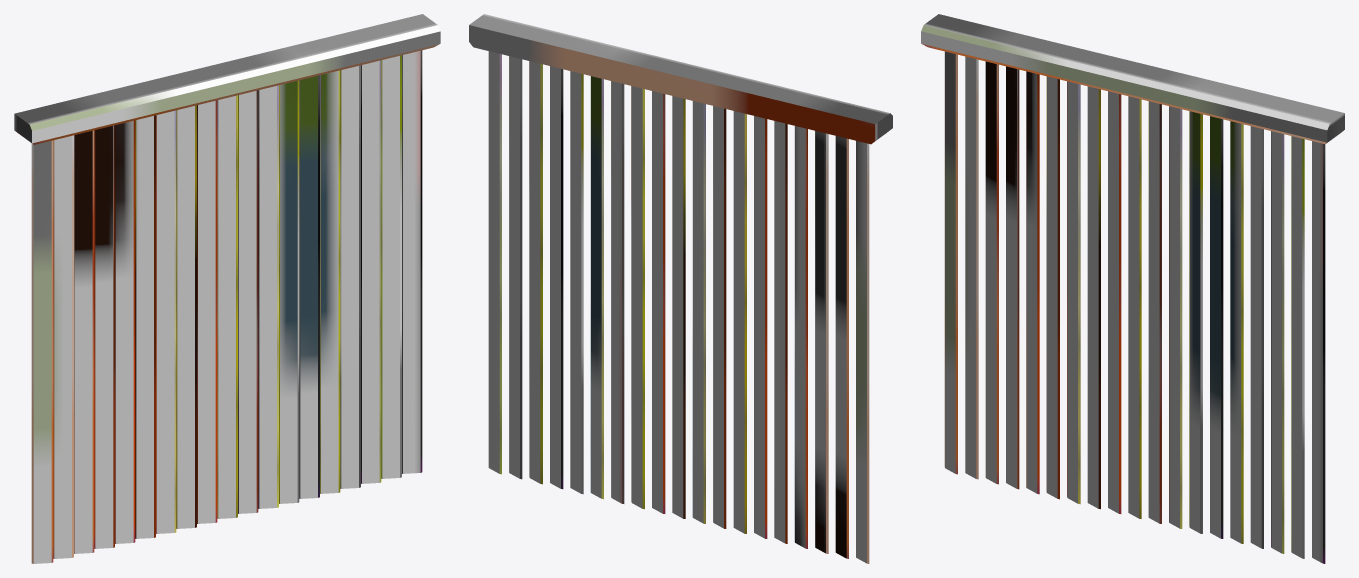
File: Curtain1.glb
3 renders of one model, left to right at view 1: azimuth 30°, elevation 25°; view 2: azimuth 150°, elevation 25°; view 3: azimuth 330°, elevation 25°, orthographic.
Visible parts, largest first — view 1: Curtain1; view 2: Curtain1; view 3: Curtain1.
Boxes of the visible parts, x1,y1,x2,y2 form: Curtain1: (14, 14, 440, 563); Curtain1: (469, 14, 892, 563); Curtain1: (921, 14, 1344, 563).
Bounding box in the file's own units: 2 × 2.1 × 0.1498.
Materials: 1 (1 with a texture image).
